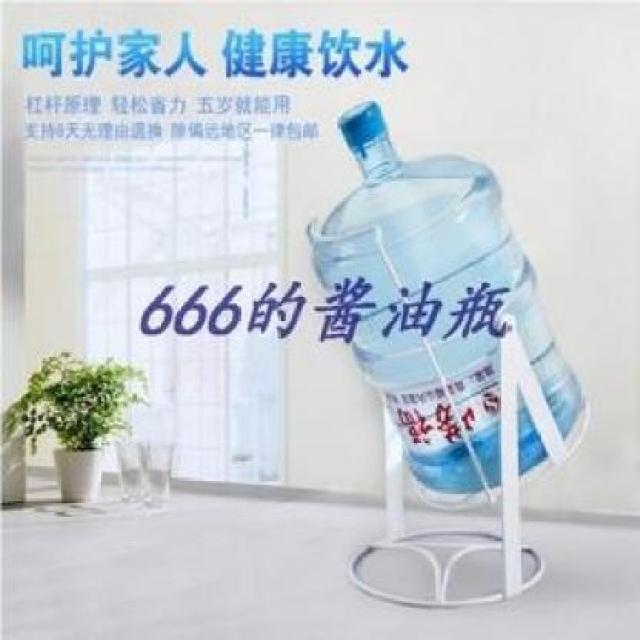coolerbottle: (307, 94, 588, 507)
